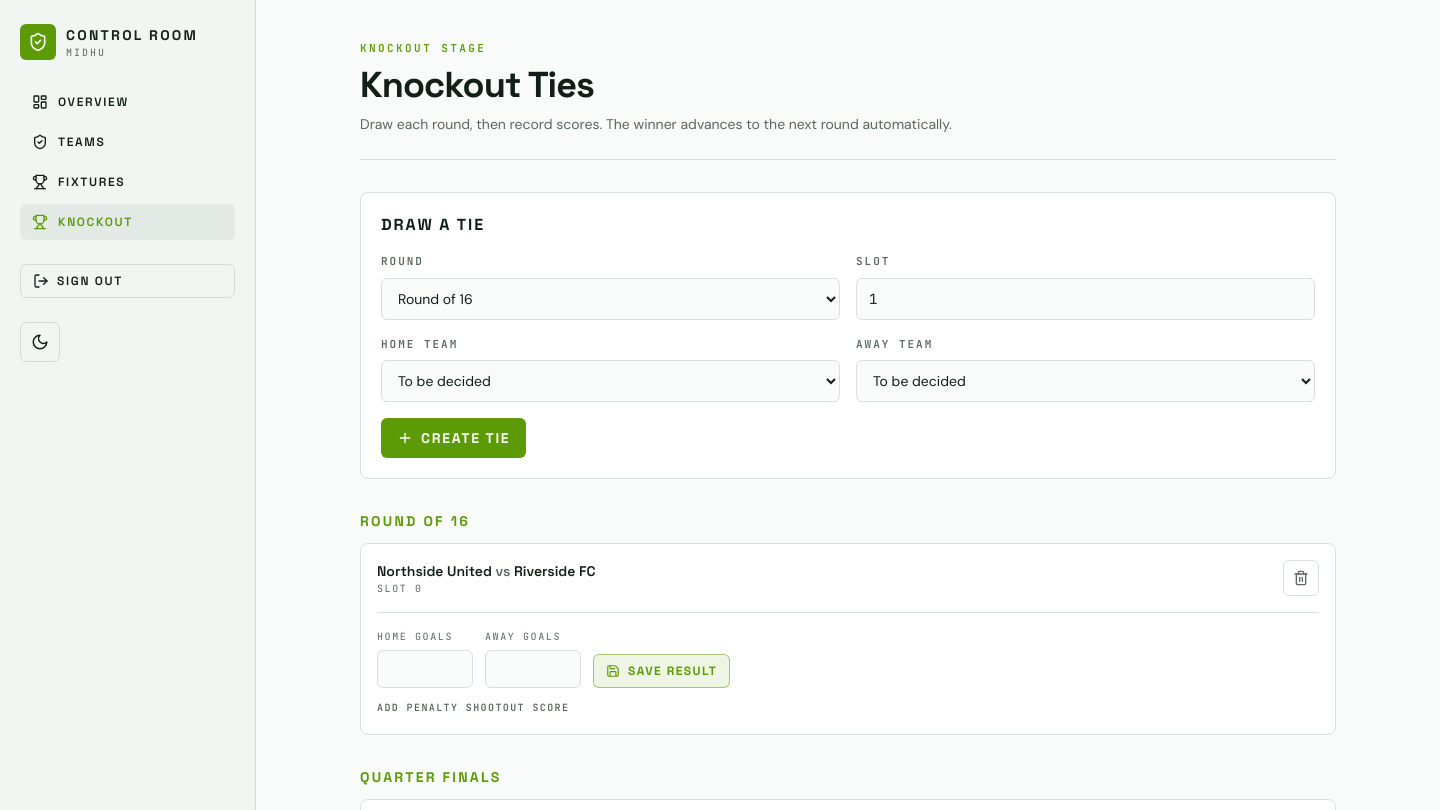
Scenario: AdminBracketPage penalty shootout › records a level tie's shootout score and advances the penalty winner
Type "1" into the number field with test id "admin.tie_home_goals_input.1" at (425, 669), box x1=377 y1=650 x2=473 y2=688
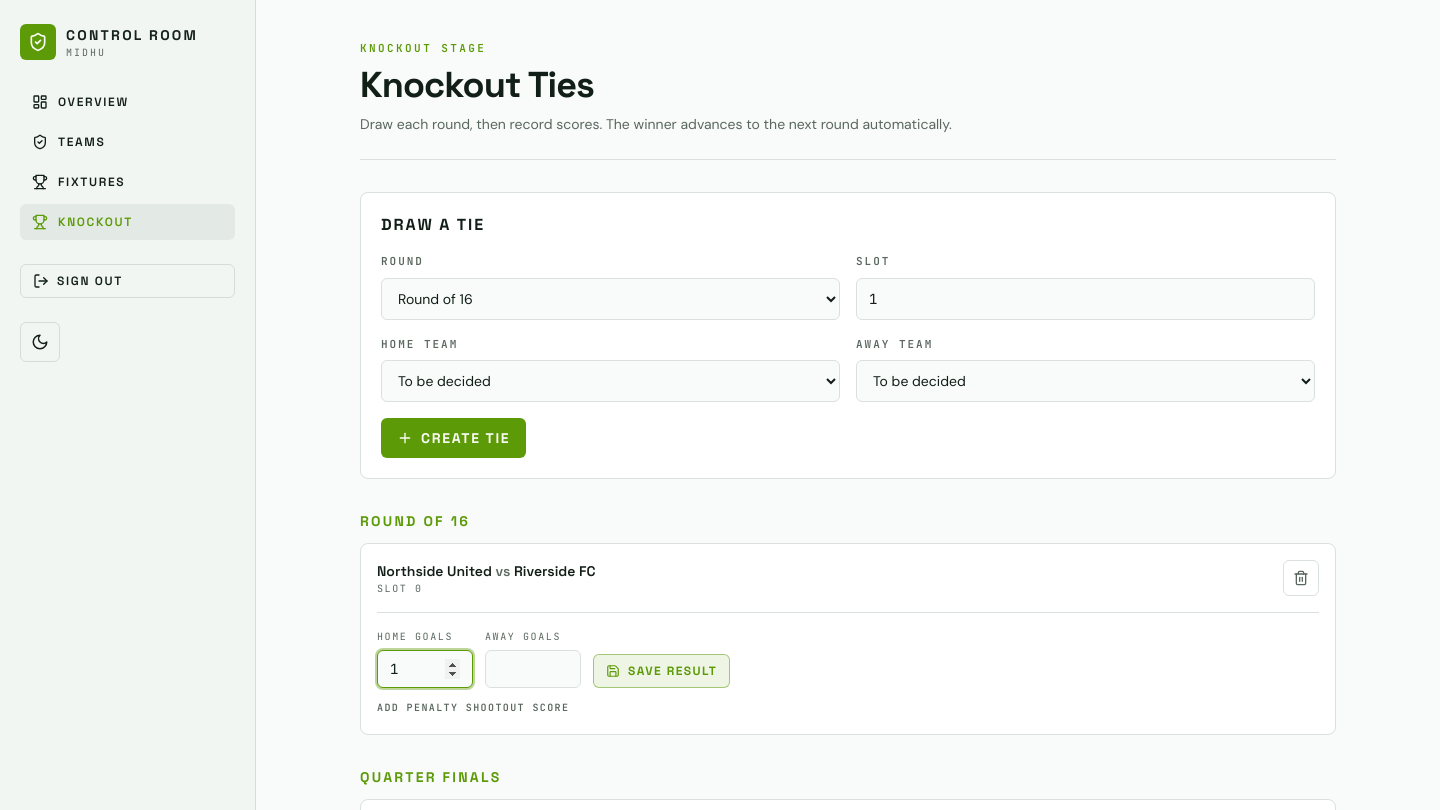
Type "1" into the number field with test id "admin.tie_away_goals_input.1" at (533, 669), box x1=485 y1=650 x2=581 y2=688
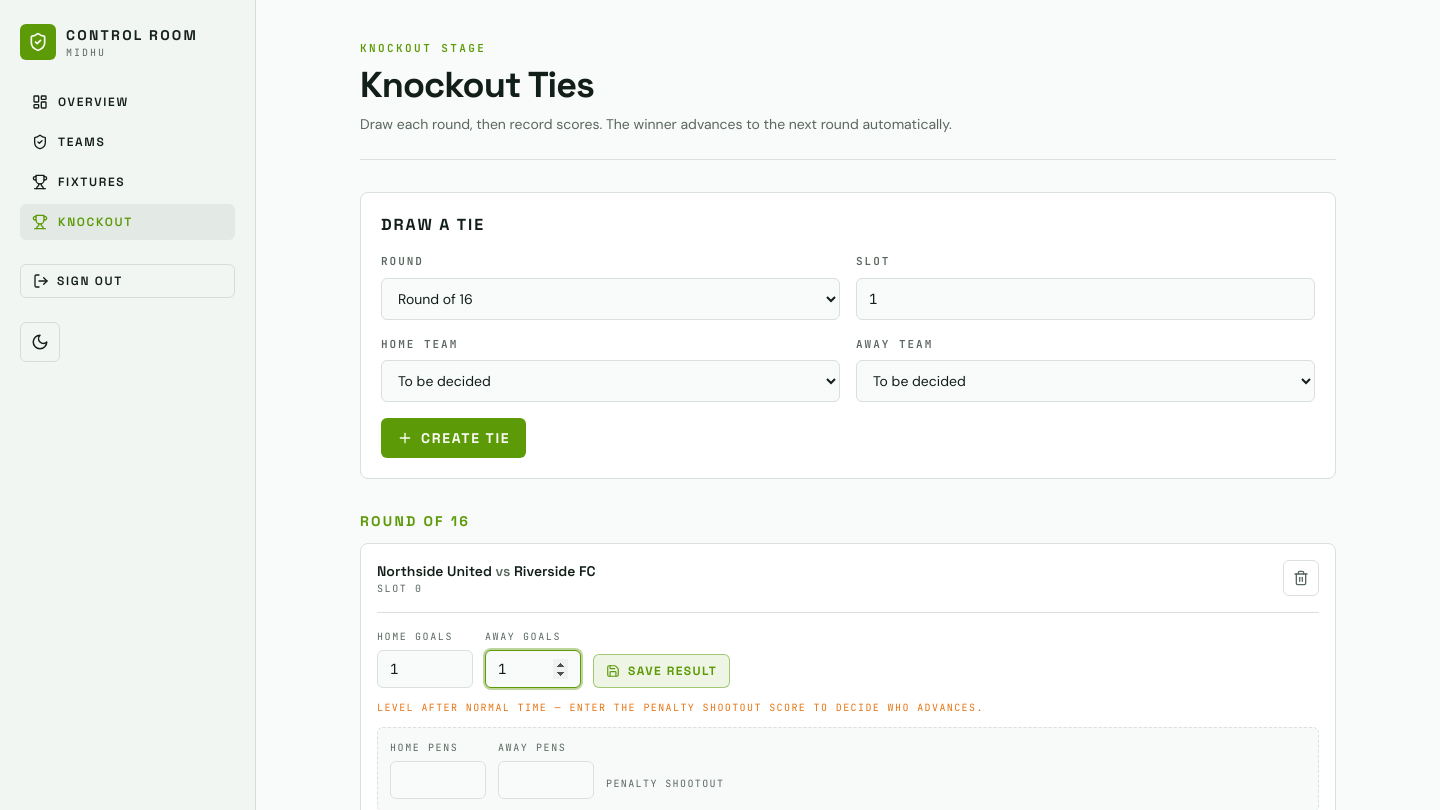
Type "3" into the number field with test id "admin.tie_home_penalties_input.1" at (438, 780), box x1=390 y1=761 x2=486 y2=799
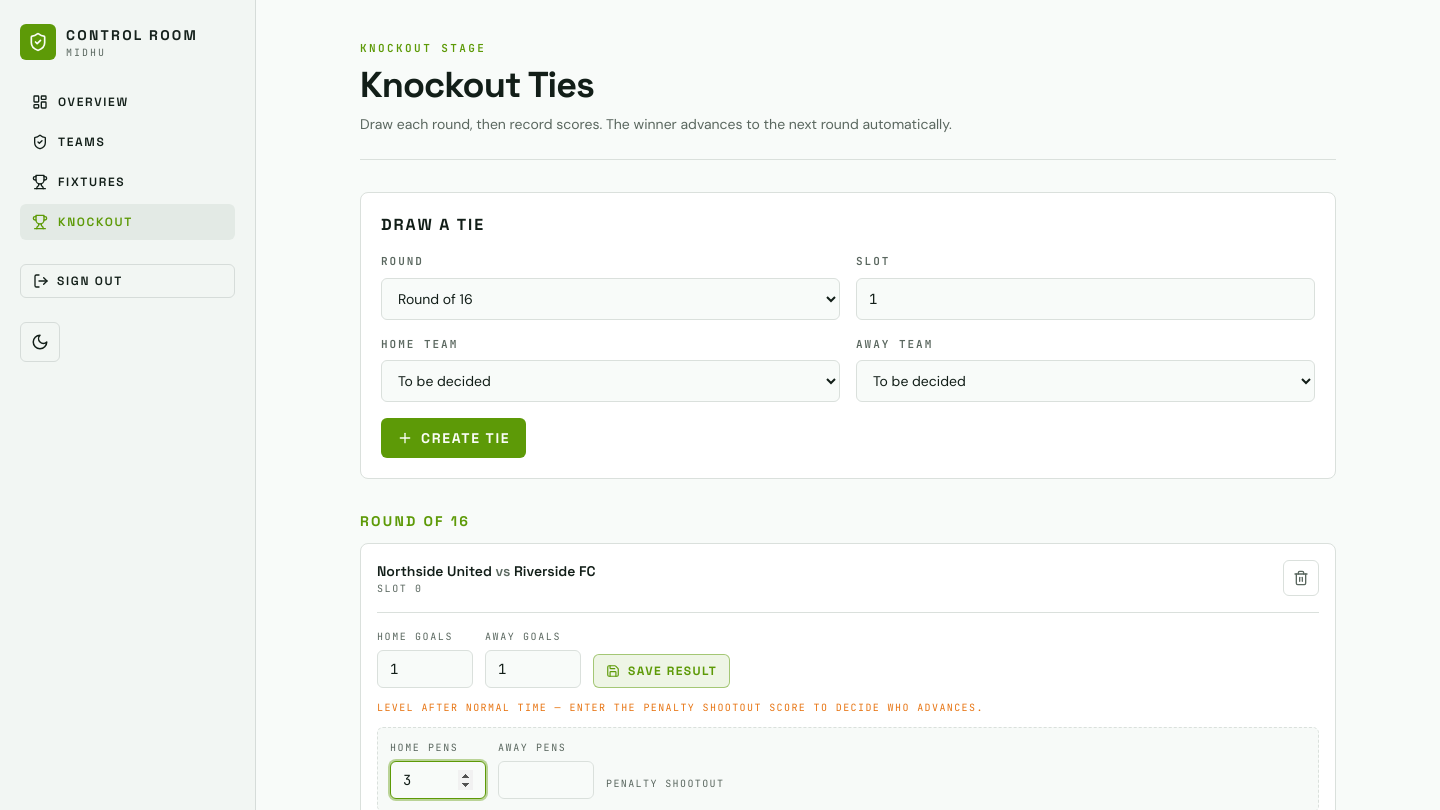
Type "4" into the number field with test id "admin.tie_away_penalties_input.1" at (546, 780), box x1=498 y1=761 x2=594 y2=799
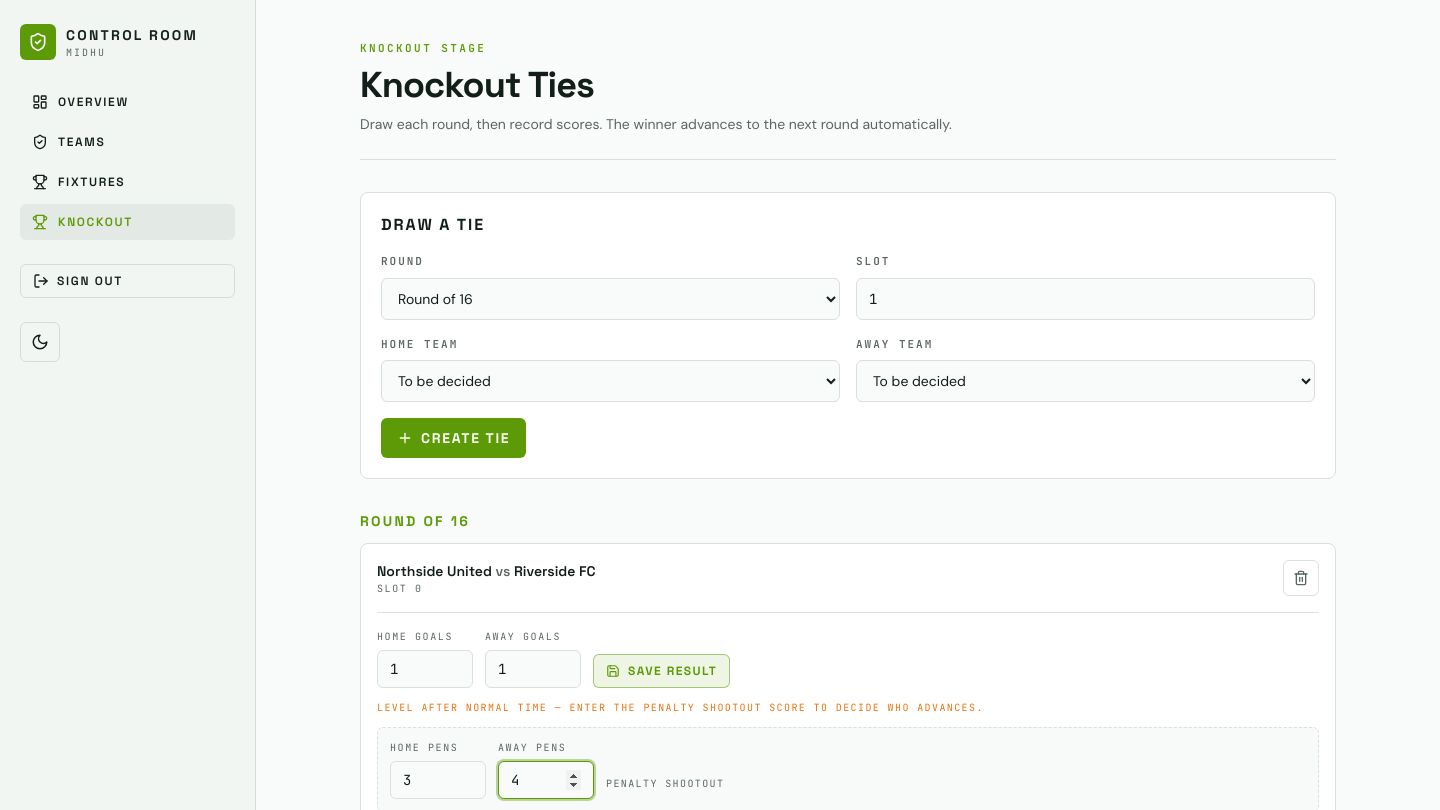
Click the button with test id "admin.tie_save_result_button.1" at (662, 671), box x1=593 y1=654 x2=730 y2=688
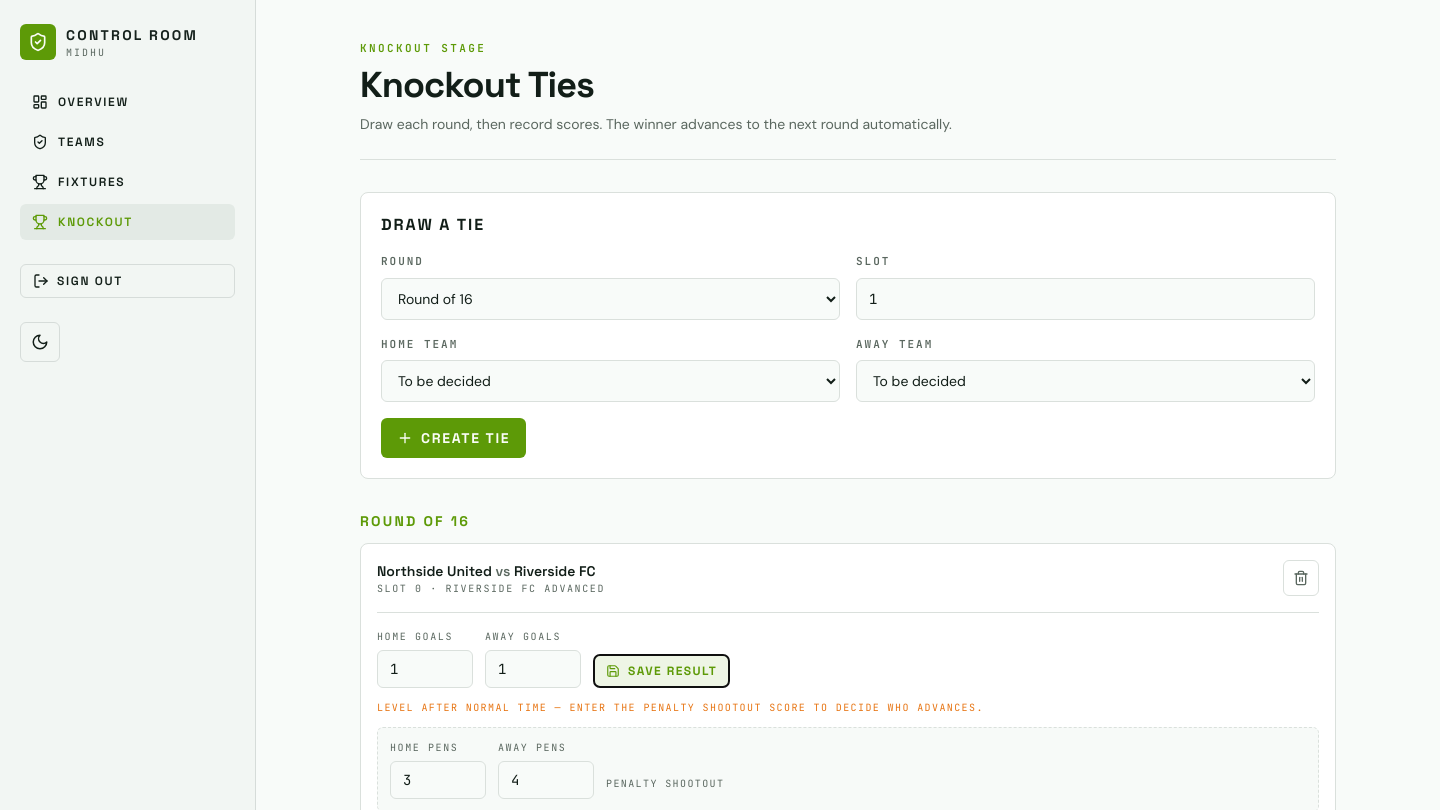
Expected: the text "Slot 0 · Riverside FC advanced" is shown, x1=377 y1=581 x2=605 y2=596
